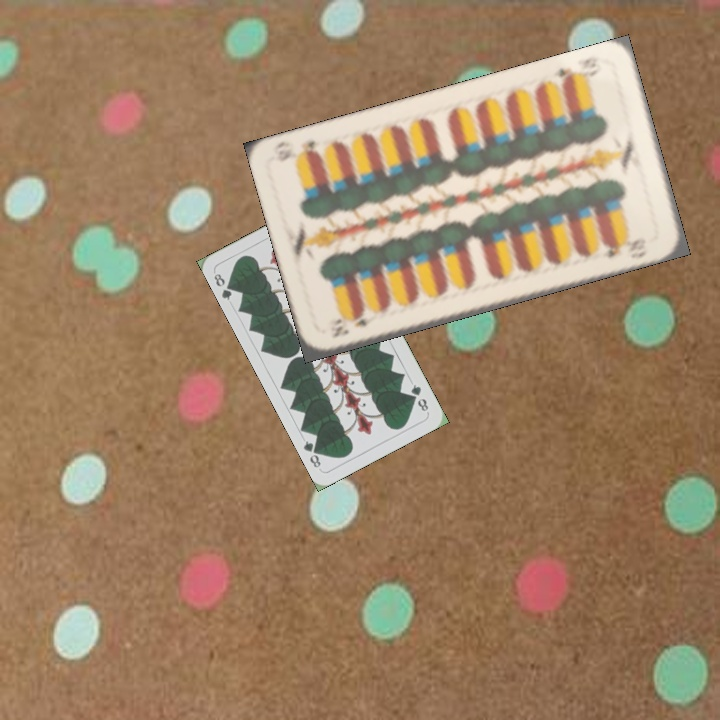E10: (550, 52, 604, 89), (328, 310, 380, 340)
G8: (210, 269, 238, 303), (407, 380, 431, 414)
